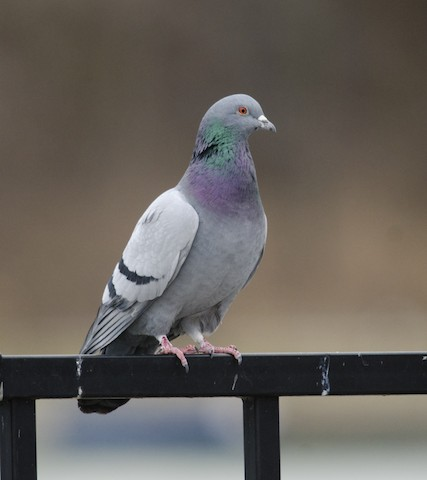pigeon: (68, 88, 281, 419)
